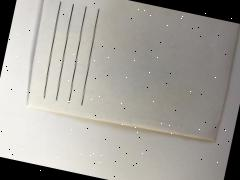paper: (4, 0, 240, 163)
